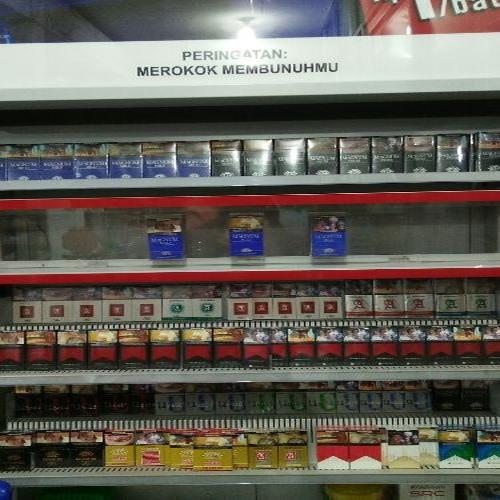A Mild: (75, 300, 96, 322), (18, 303, 37, 322), (48, 303, 67, 320)
U Mild: (158, 392, 186, 415), (225, 392, 246, 414), (409, 391, 431, 412), (360, 390, 382, 409)
